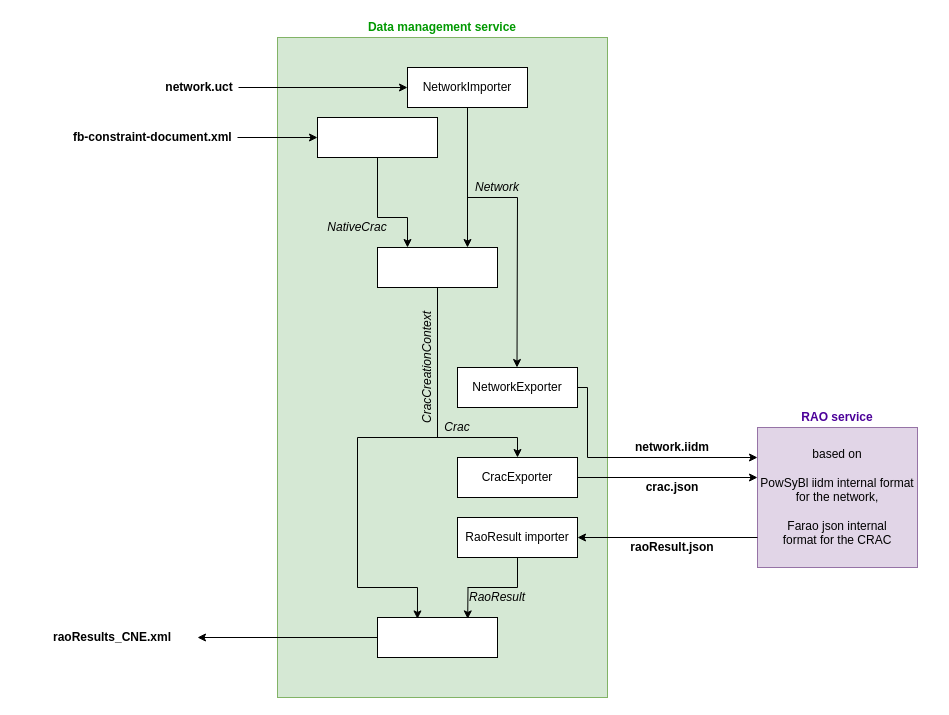
This 949x715 diagram has some shape labels left out. The box of each missing label's shape, as (x1, y1, x2, y2) in pixels:
CNE exporter: (376, 616, 498, 658)
CracCreator: (376, 246, 498, 288)
NativeCracImporter: (316, 116, 438, 158)
